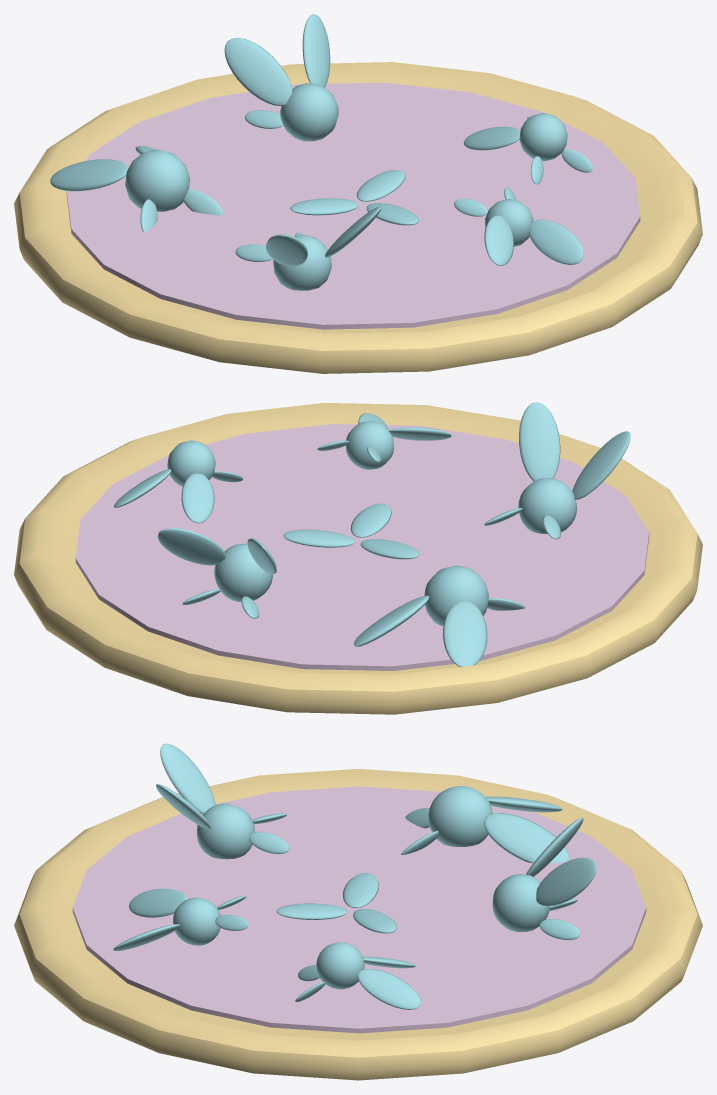
Rendered from Pizza_fairy.fbx.
3 renders of one model, top to bottom at view 1: azimuth 30°, elevation 25°; view 2: azimuth 150°, elevation 25°; view 3: azimuth 270°, elevation 25°, orthographic.
Visible parts, largest first — view 1: ost, deig, Fairies; view 2: ost, deig, Fairies; view 3: ost, deig, Fairies.
Part boxes in pixels (x1,y1,x2,y2): ost: (66,82,640,329); deig: (14,62,702,373); Fairies: (50,14,592,290); ost: (75,424,649,670); deig: (14,402,702,714); Fairies: (114,402,630,666); ost: (72,786,646,1033); deig: (14,769,702,1080); Fairies: (113,743,596,1009).
Size of the model in its own units: 11.4 by 2.08 by 11.4.
